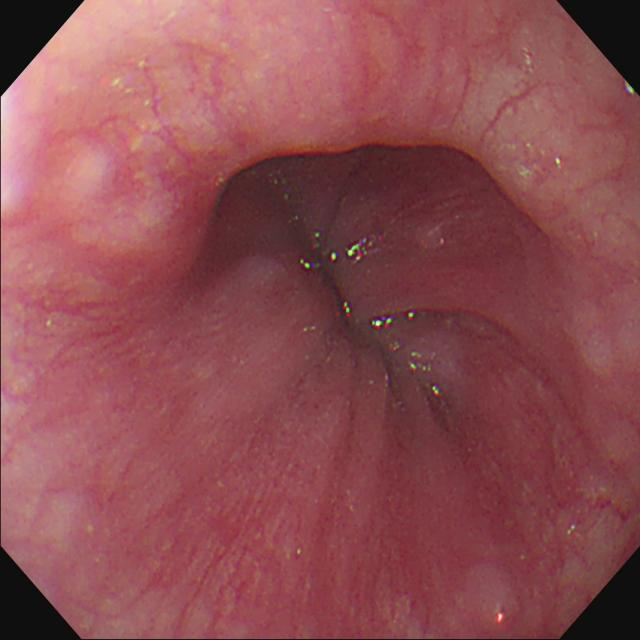I: (277, 175, 525, 471)
